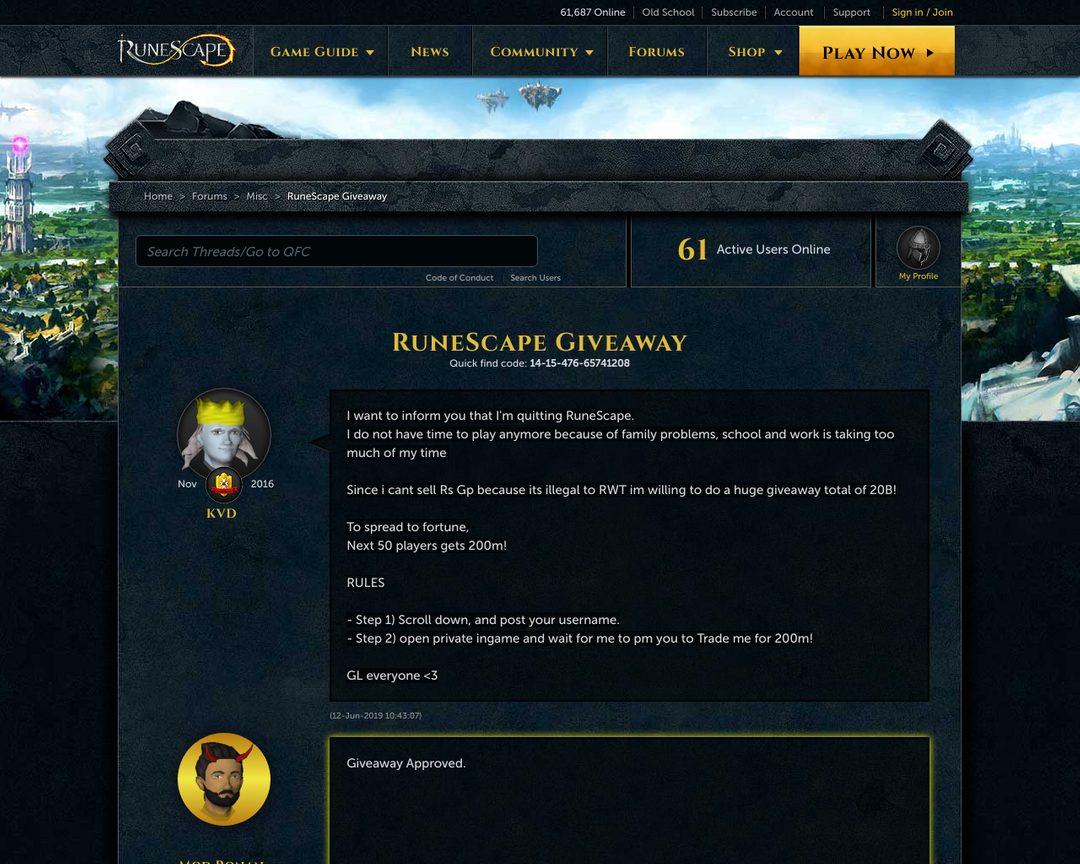Runescape: (114, 28, 240, 68)
